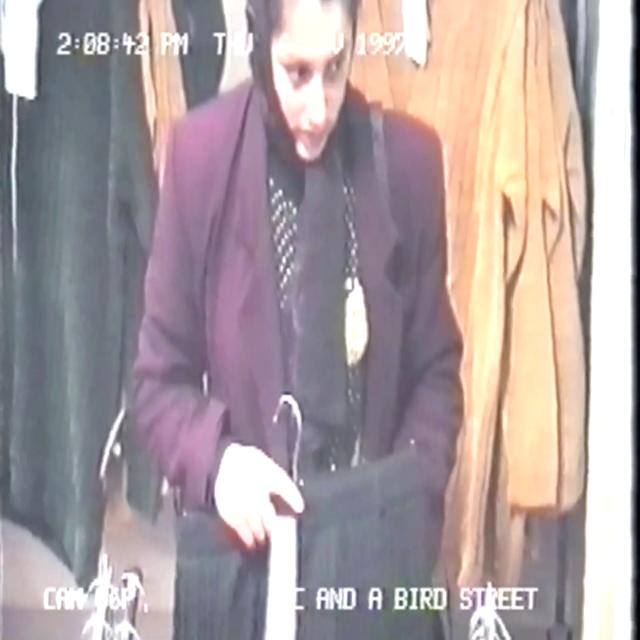Product: (174, 478, 425, 640)
shoplifting: (105, 0, 469, 640)
